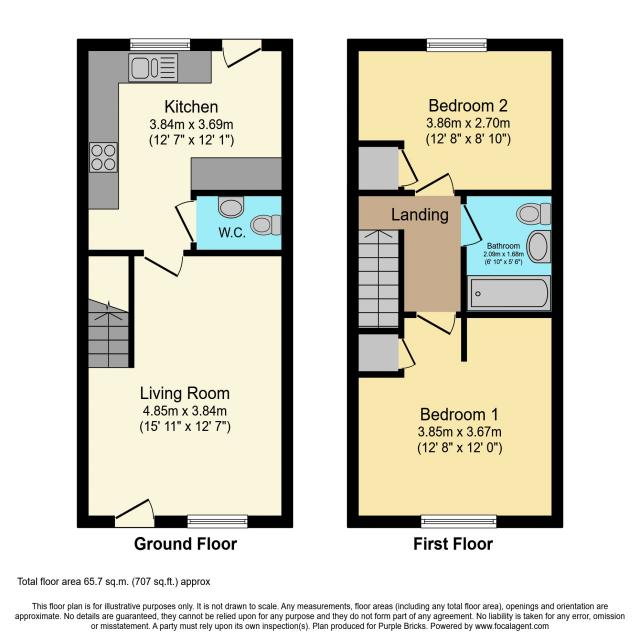DOOR: (220, 38, 264, 70), (113, 496, 156, 528), (141, 249, 185, 279), (414, 311, 458, 339), (172, 198, 197, 245), (460, 202, 485, 248), (414, 172, 456, 197)
ROOM: (76, 249, 294, 529), (76, 38, 294, 280), (346, 311, 564, 529), (347, 38, 564, 196)
WINDOW: (419, 513, 499, 530), (426, 38, 488, 53), (186, 514, 248, 529), (129, 38, 191, 52)
